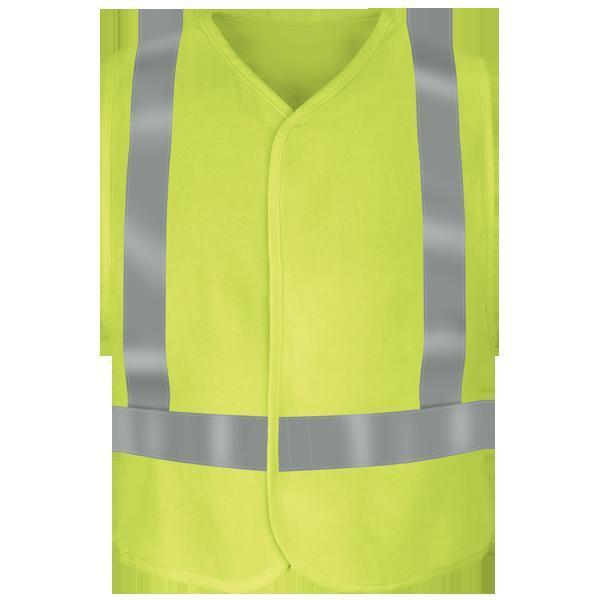vest: (98, 7, 498, 594)
